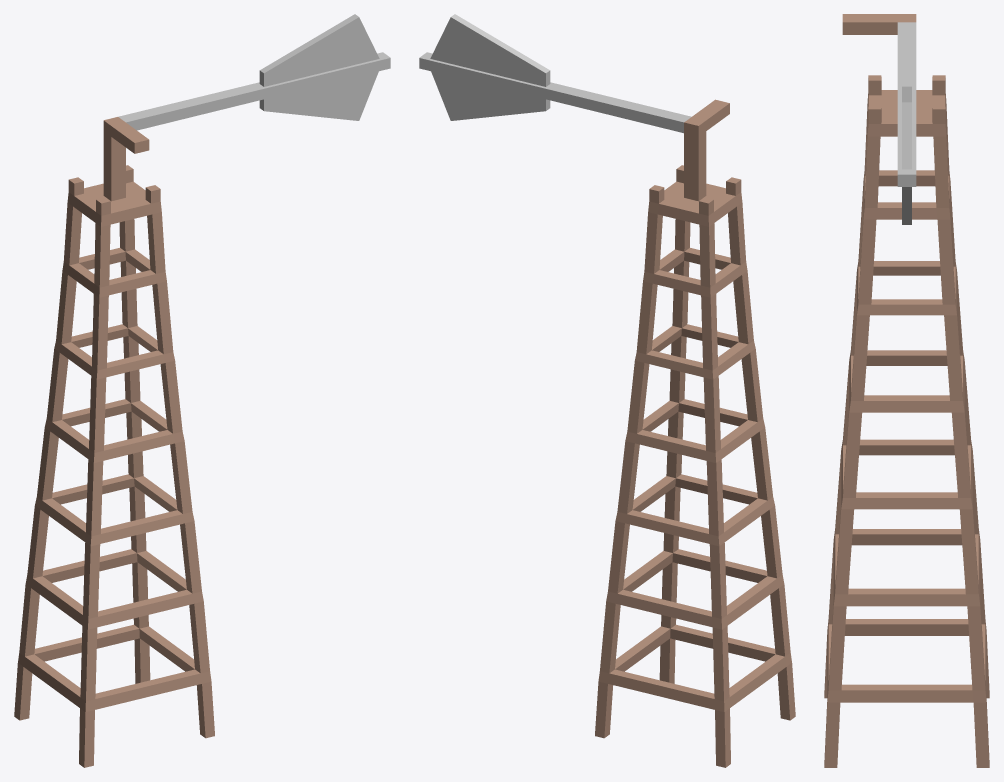
Rendered from wind-turbine.glb.
3 views of the same model, side by side, from view 1: azimuth 30°, elevation 25°; view 2: azimuth 150°, elevation 25°; view 3: azimuth 270°, elevation 25° (orthographic). The views are drawn at different scales.
Visible parts, largest first — view 1: Windmill_Cube.020; view 2: Windmill_Cube.020; view 3: Windmill_Cube.020.
Boxes of the visible parts, left/top/right/bottom form: Windmill_Cube.020: left=14, top=14, right=390, bottom=767; Windmill_Cube.020: left=419, top=14, right=795, bottom=767; Windmill_Cube.020: left=824, top=14, right=989, bottom=767.
Size of the model in its own units: 5.27 by 9.72 by 1.9.
1 material, 1 textured.
